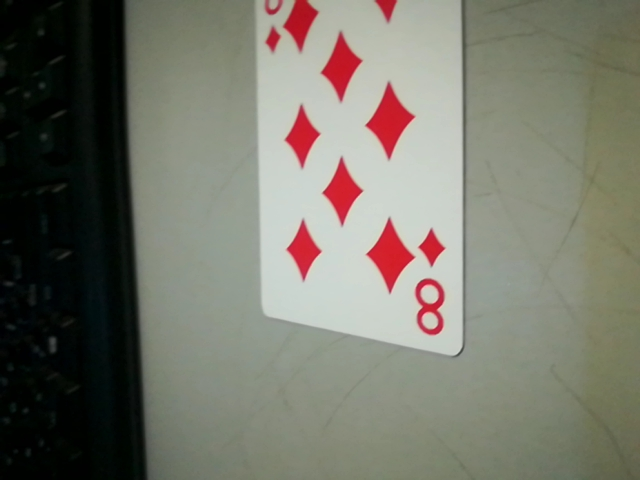fk 8: (401, 223, 458, 349)
